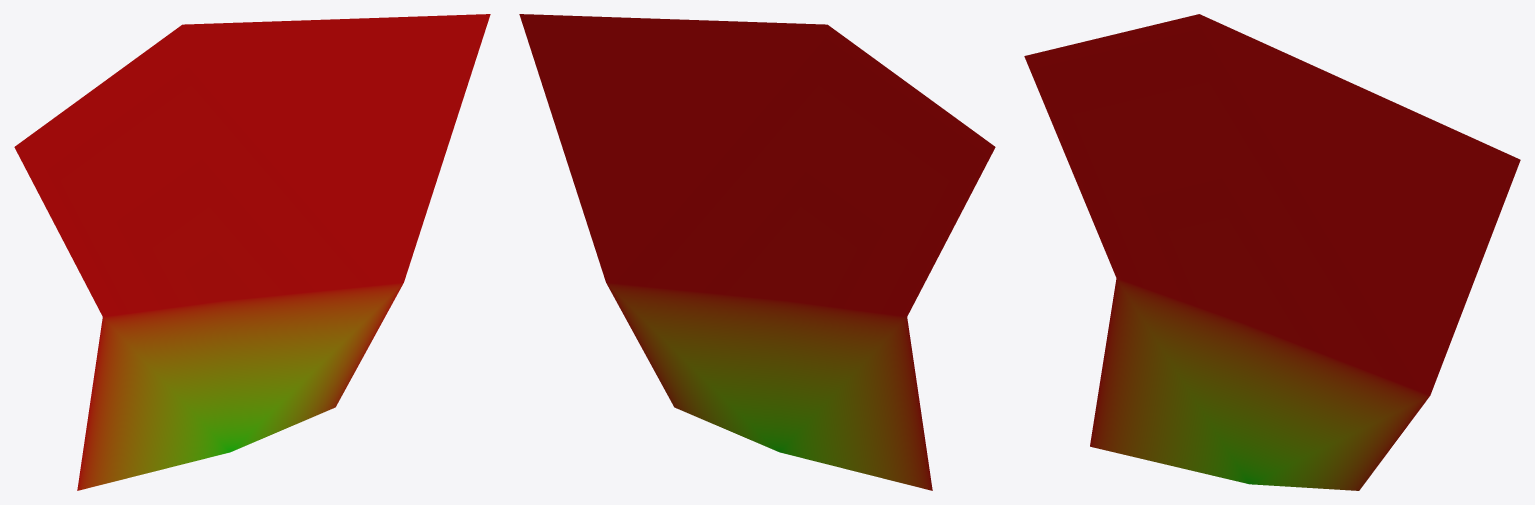
File: Field Poppy_LOD4_Var1_vmcobd0ja.fbx
The picture shows the model from 3 angles, left to right: view 1: azimuth 30°, elevation 25°; view 2: azimuth 150°, elevation 25°; view 3: azimuth 330°, elevation 25°; orthographic projection. The views are drawn at different scales.
Parts seen in each view (by area): view 1: _897o_Var1_LOD4; view 2: _897o_Var1_LOD4; view 3: _897o_Var1_LOD4.
Boxes of the visible parts, left/top/right/bottom form: _897o_Var1_LOD4: left=14, top=14, right=490, bottom=490; _897o_Var1_LOD4: left=519, top=14, right=995, bottom=490; _897o_Var1_LOD4: left=1024, top=14, right=1520, bottom=490.
Size of the model in its own units: 78.78 by 69.65 by 8.3e-06.
